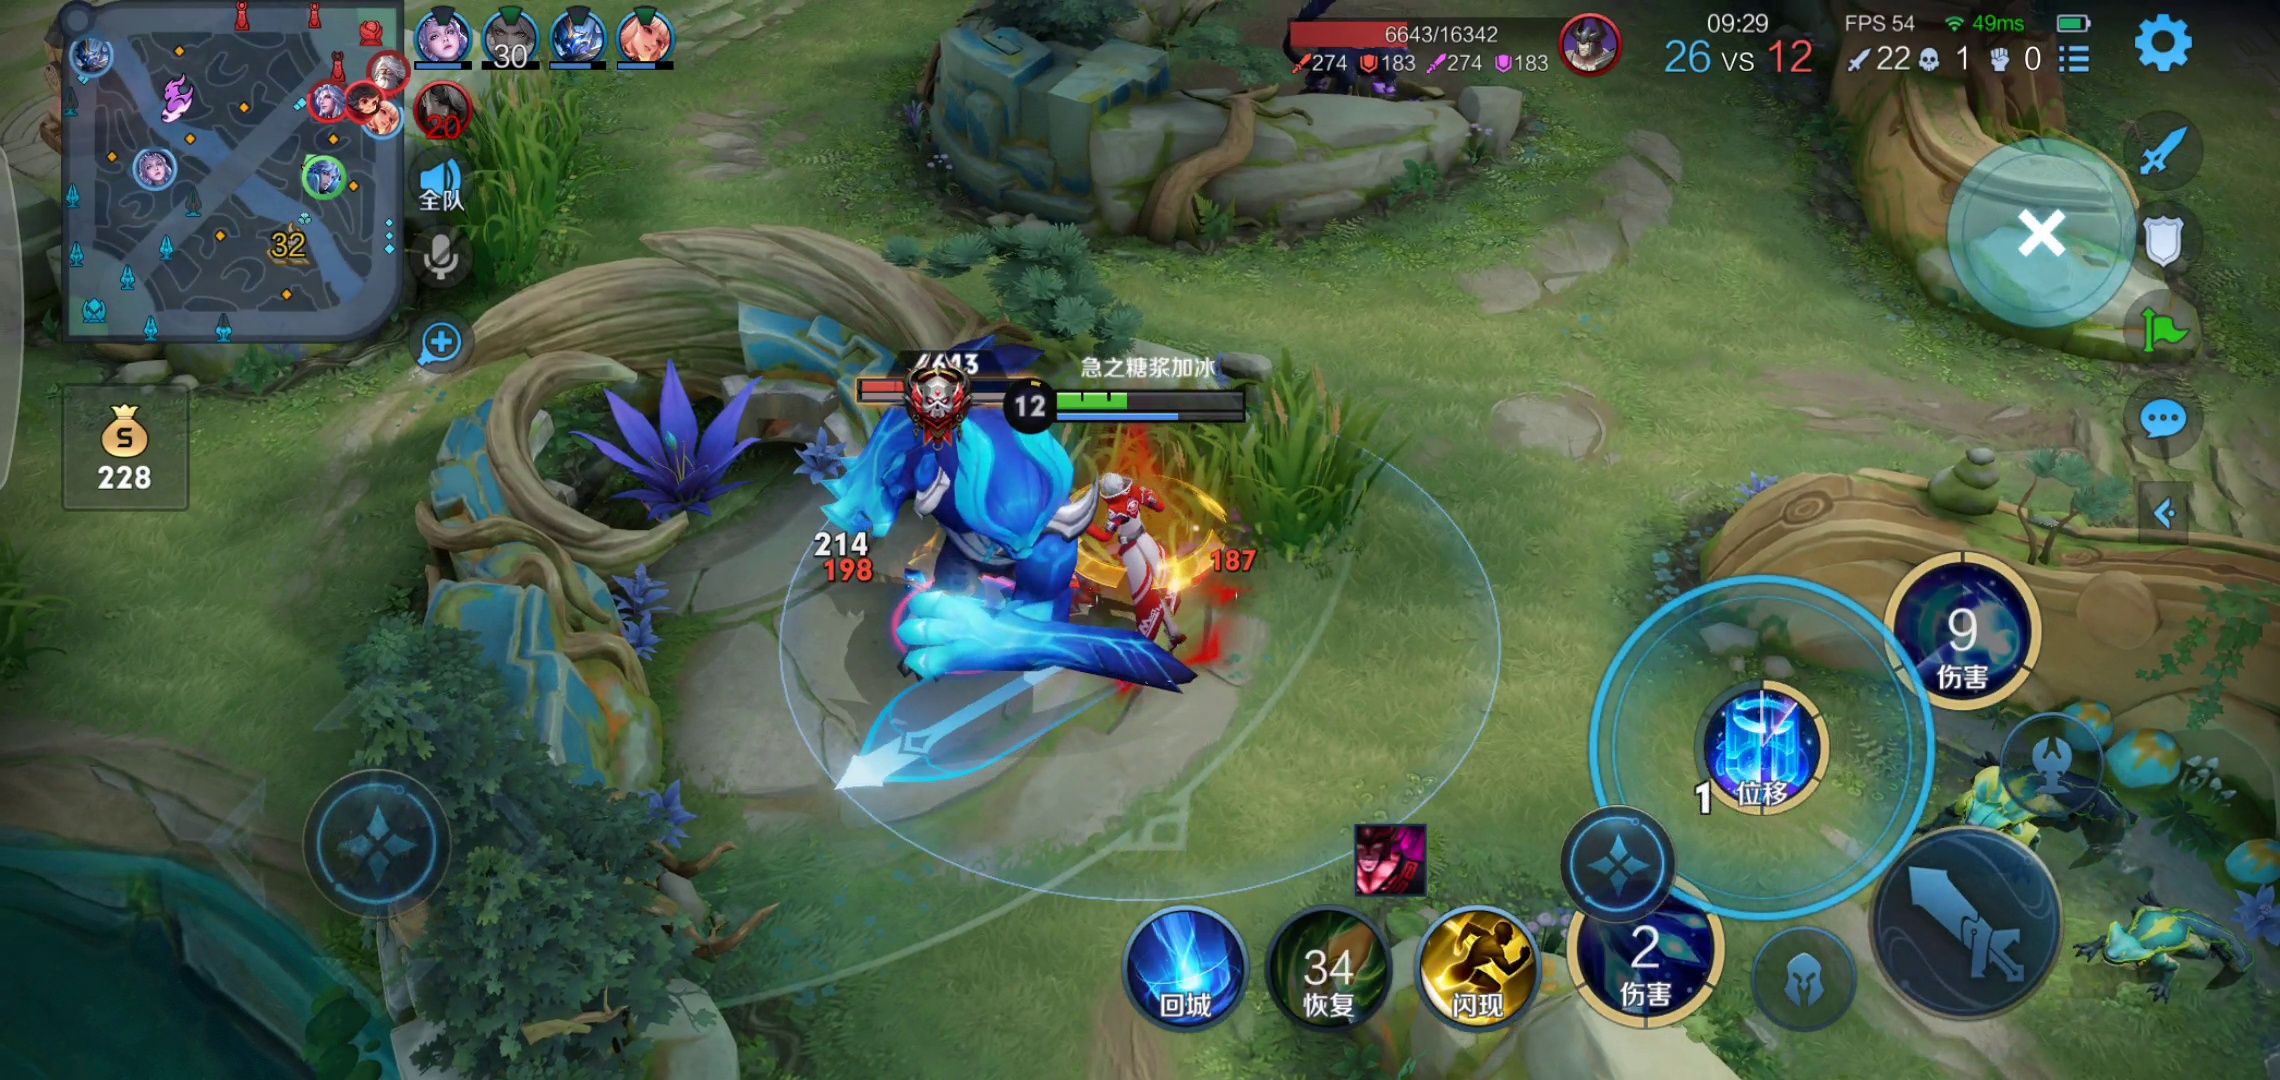buff: (843, 379, 1083, 738)
grass: (1125, 371, 1378, 564), (426, 77, 587, 281)
hero: (1077, 472, 1197, 654)
wild_monster: (1966, 751, 2249, 1036)
